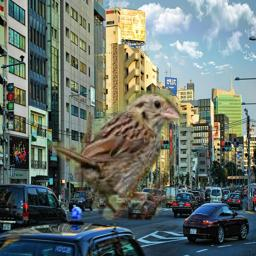Sparrow: (48, 90, 185, 220)
